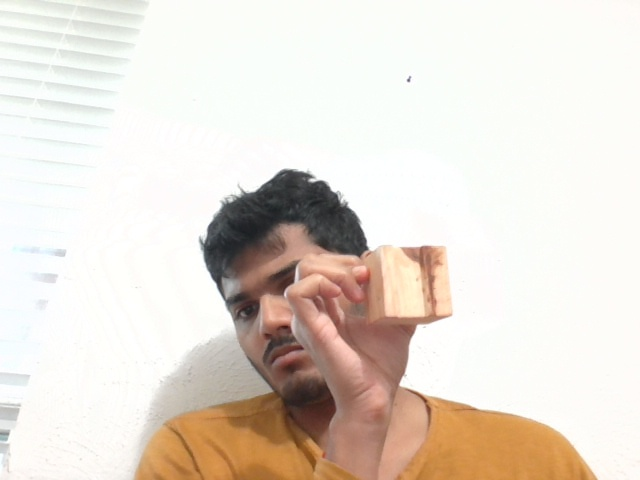NormalBlock: (368, 245, 454, 323)
